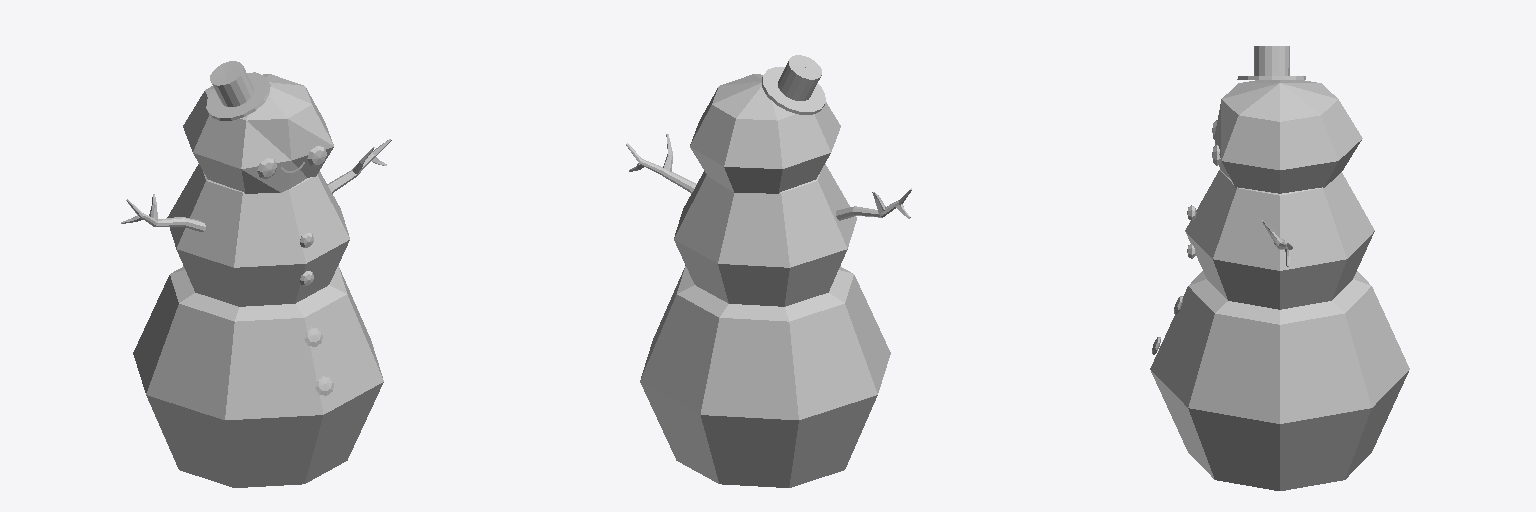
Rendered from Muñeco_nieve.obj.
3 renders of one model, left to right at view 1: azimuth 30°, elevation 25°; view 2: azimuth 150°, elevation 25°; view 3: azimuth 270°, elevation 25°, orthographic.
Visible parts, largest first — view 1: Sphere001, Sphere002, Sphere003, Line001, Sphere004, Object009, Object008, Sphere005; view 2: Sphere001, Sphere002, Sphere003, Line001, Object008, Object009; view 3: Sphere001, Sphere002, Sphere003, Line001.
Boxes of the visible parts, x1,y1,x2,y2 form: Sphere001: [133, 265, 383, 487]; Sphere002: [167, 164, 349, 306]; Sphere003: [183, 74, 333, 193]; Line001: [206, 61, 270, 120]; Sphere004: [257, 146, 326, 285]; Object009: [121, 194, 205, 231]; Object008: [327, 139, 391, 193]; Sphere005: [304, 327, 333, 395]; Sphere001: [640, 265, 890, 487]; Sphere002: [674, 164, 856, 306]; Sphere003: [690, 74, 840, 193]; Line001: [762, 55, 825, 114]; Object008: [626, 134, 696, 193]; Object009: [836, 188, 911, 220]; Sphere001: [1150, 271, 1409, 490]; Sphere002: [1185, 170, 1374, 309]; Sphere003: [1214, 80, 1362, 193]; Line001: [1237, 46, 1305, 79].
Bounding box in the file's own units: 38.85 × 53.66 × 31.5.